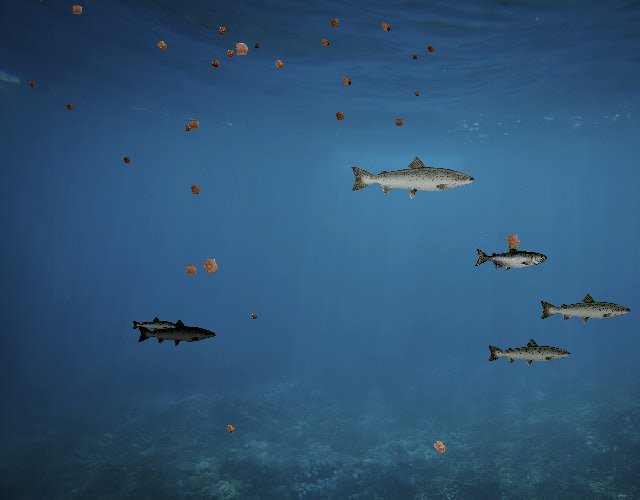Fish: (348, 154, 477, 200), (539, 293, 633, 327), (486, 337, 572, 368), (137, 318, 218, 348), (474, 246, 547, 272), (132, 316, 179, 333)
Pellet: (196, 250, 226, 280), (426, 433, 453, 460), (179, 259, 202, 282), (376, 18, 395, 37), (222, 420, 240, 438), (180, 121, 195, 136), (120, 153, 134, 167), (248, 310, 260, 322)
